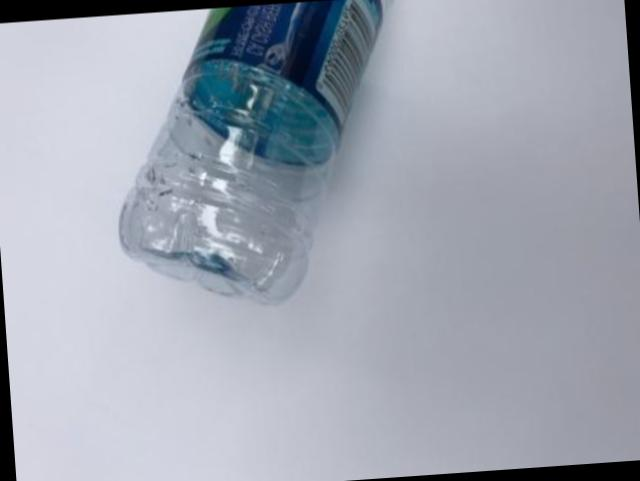plastic: (117, 0, 380, 305)
